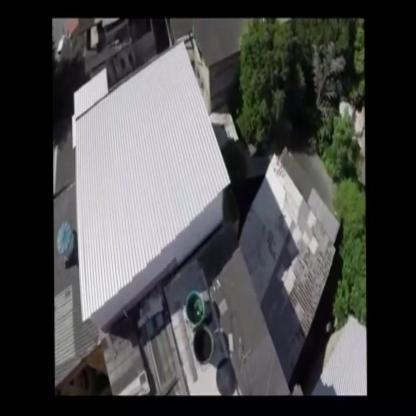agua: (187, 291, 214, 365)
